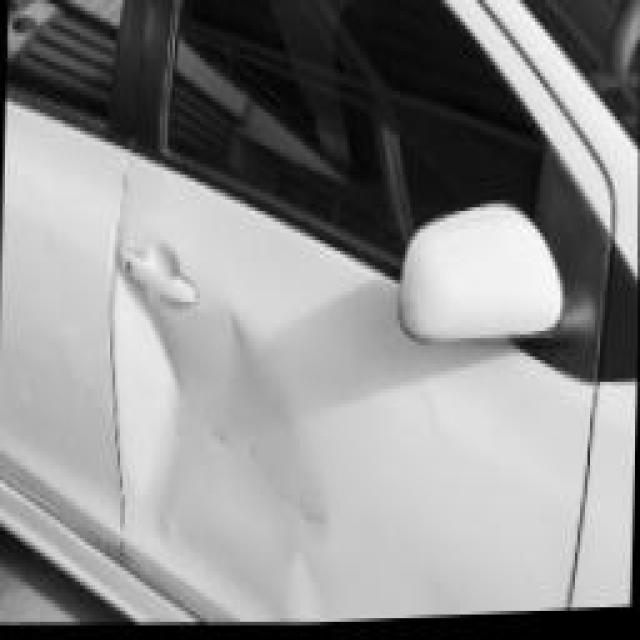Door: (125, 233, 379, 636)
